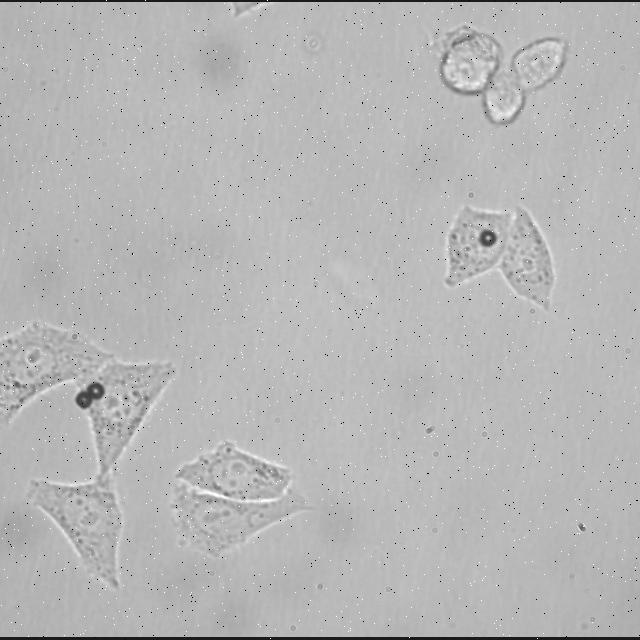microbeads: (85, 382, 106, 400), (76, 391, 94, 409), (480, 230, 494, 247)
